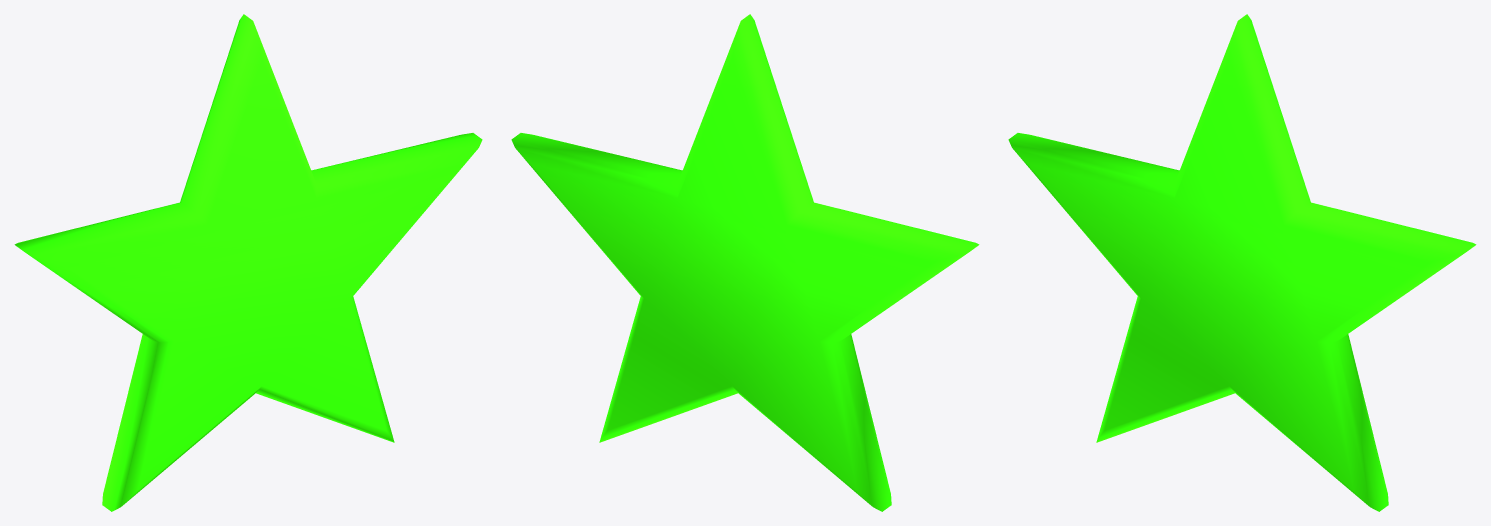
The model's file is b83f8f97-5167-4feb-8d0e-73b2593b7e66.glb.
3 views of the same model, side by side, from view 1: azimuth 30°, elevation 25°; view 2: azimuth 150°, elevation 25°; view 3: azimuth 330°, elevation 25° (orthographic).
Visible parts, largest first — view 1: IndicatorStarGreen; view 2: IndicatorStarGreen; view 3: IndicatorStarGreen.
Part boxes in pixels (x1,y1,x2,y2): IndicatorStarGreen: (14,14,482,511); IndicatorStarGreen: (511,14,979,511); IndicatorStarGreen: (1008,14,1476,511).
Bounding box in the file's own units: 0.5617 × 0.5341 × 0.0567.
Materials: 1 (1 with a texture image).
